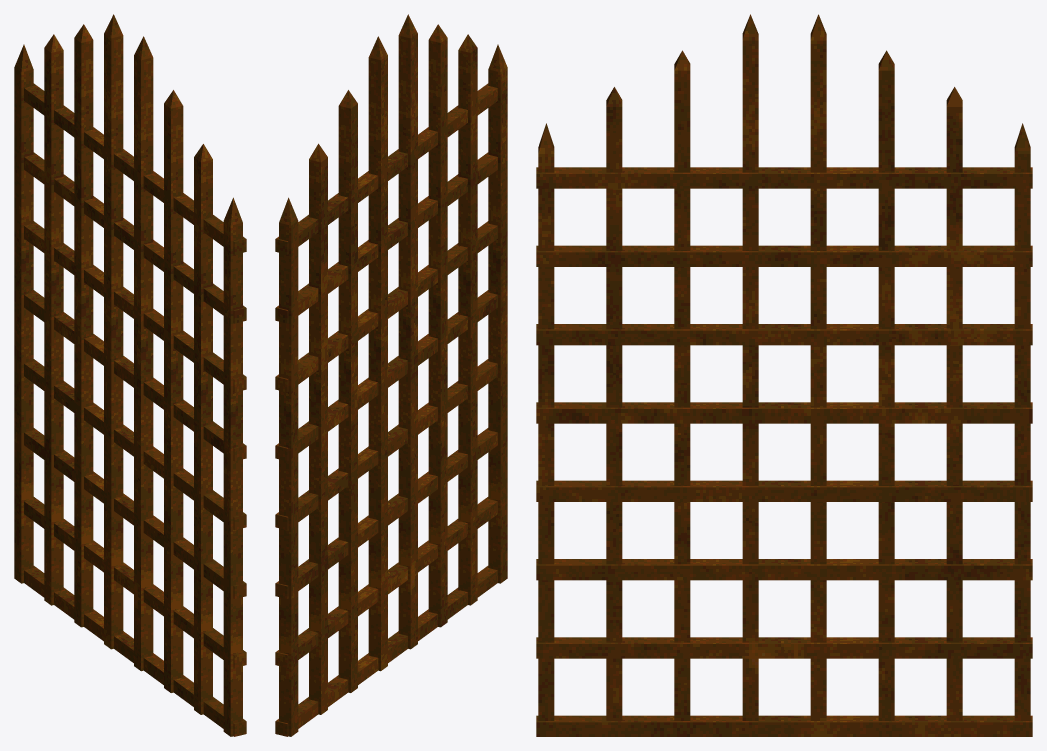
The model's file is door_gate_01.gltf.
The picture shows the model from 3 angles, left to right: view 1: azimuth 30°, elevation 25°; view 2: azimuth 150°, elevation 25°; view 3: azimuth 270°, elevation 25°; orthographic projection. The views are drawn at different scales.
Visible parts, largest first — view 1: door_gate_01; view 2: door_gate_01; view 3: door_gate_01.
Part boxes in pixels (x1=…): door_gate_01: x1=14, y1=14, x2=246, y2=736; door_gate_01: x1=275, y1=14, x2=507, y2=736; door_gate_01: x1=536, y1=14, x2=1032, y2=736.
Bounding box in the file's own units: 0.0489 × 1.98 × 1.24.
1 material, 1 textured.
